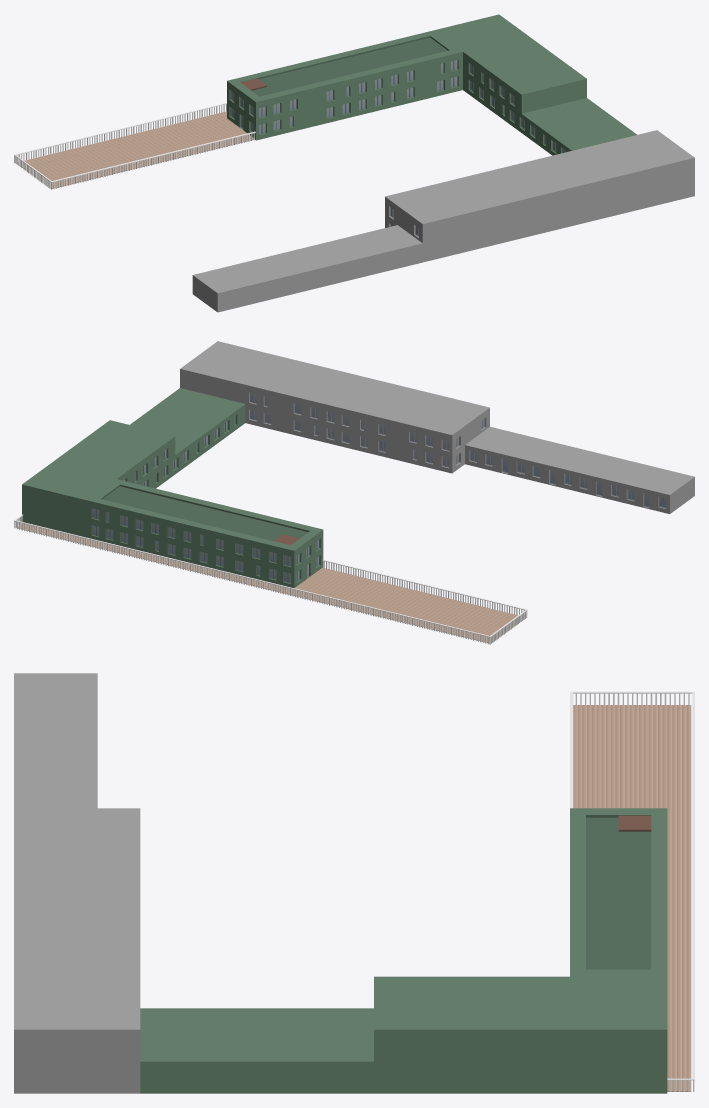
File: RoofOld.fbx
The picture shows the model from 3 angles, top to bottom: view 1: azimuth 30°, elevation 25°; view 2: azimuth 150°, elevation 25°; view 3: azimuth 270°, elevation 25°; orthographic projection. The views are drawn at different scales.
Visible parts, largest first — view 1: Zemlia; view 2: Zemlia; view 3: Zemlia.
Part boxes in pixels (bbox=[...]): Zemlia: bbox=[14, 14, 694, 312]; Zemlia: bbox=[14, 341, 694, 644]; Zemlia: bbox=[14, 673, 694, 1093].
Size of the model in its own units: 132 by 178 by 13.7.
